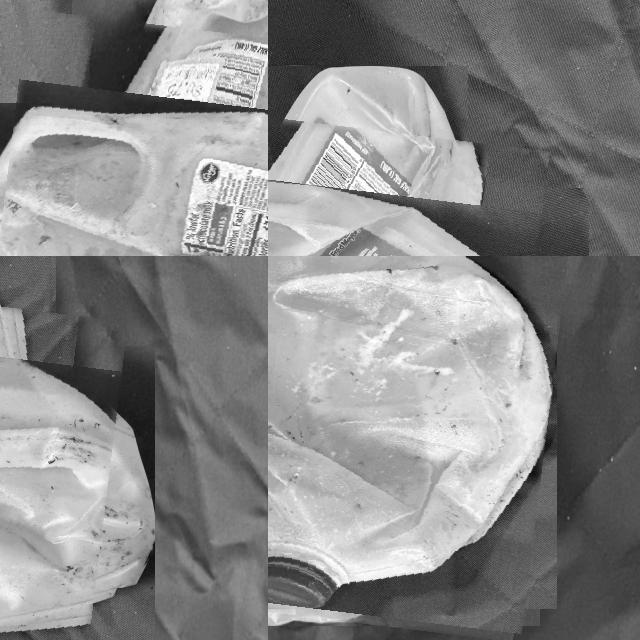milk-jug: (268, 256, 560, 630), (0, 20, 268, 256), (0, 284, 116, 640), (268, 115, 539, 256)
